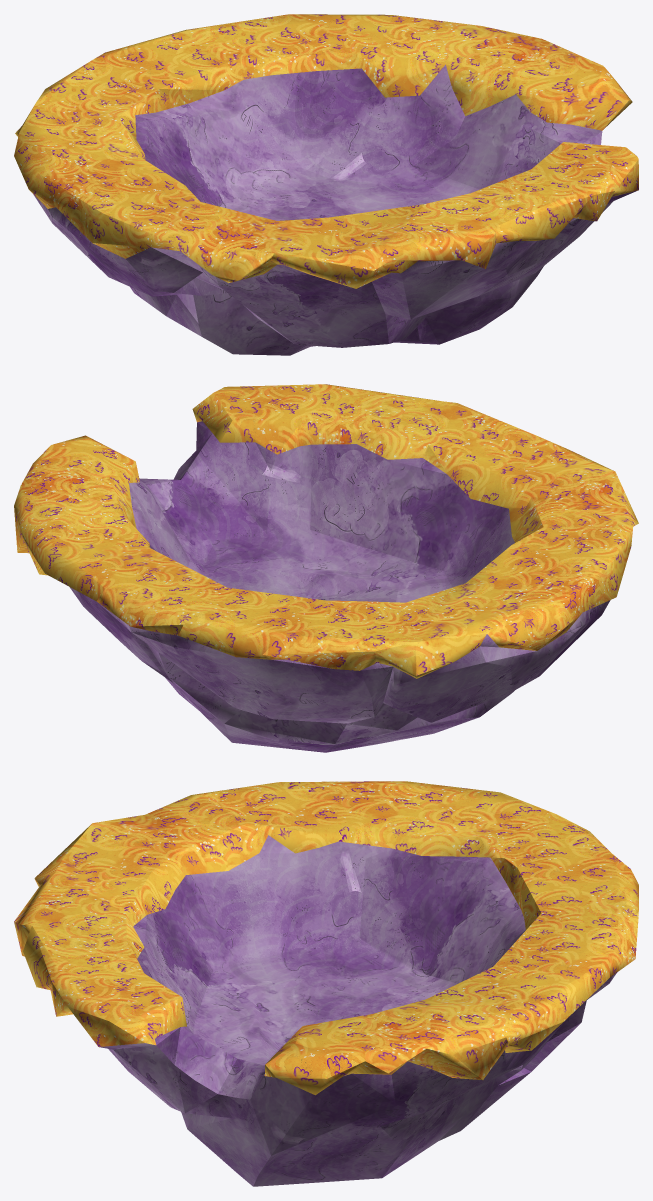
The model's file is Floating_Island_02_Art.glb.
3 views of the same model, one above another, from view 1: azimuth 30°, elevation 25°; view 2: azimuth 150°, elevation 25°; view 3: azimuth 270°, elevation 25° (orthographic). The views are drawn at different scales.
Visible parts, largest first — view 1: Floating_Island_02_Art; view 2: Floating_Island_02_Art; view 3: Floating_Island_02_Art.
Boxes of the visible parts, <box> form: Floating_Island_02_Art: <box>14,14,638,355</box>; Floating_Island_02_Art: <box>14,384,638,752</box>; Floating_Island_02_Art: <box>14,781,638,1186</box>.
Size of what is drawn, in the model's own units: 17.74 by 6.25 by 16.26.
2 materials, 2 textured.
